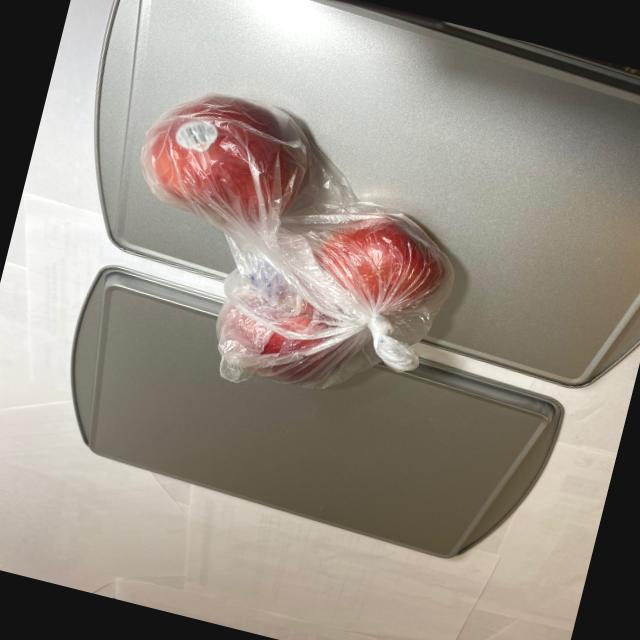apple: (98, 78, 478, 415)
